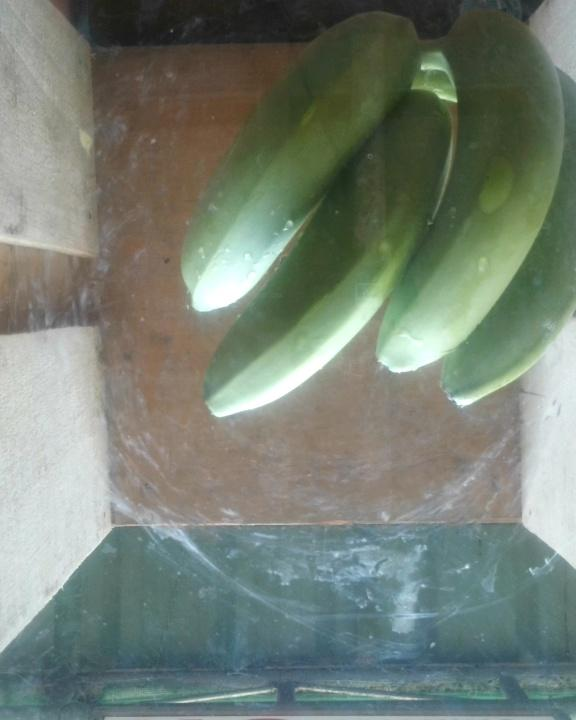SPOT: (176, 1, 576, 430)
